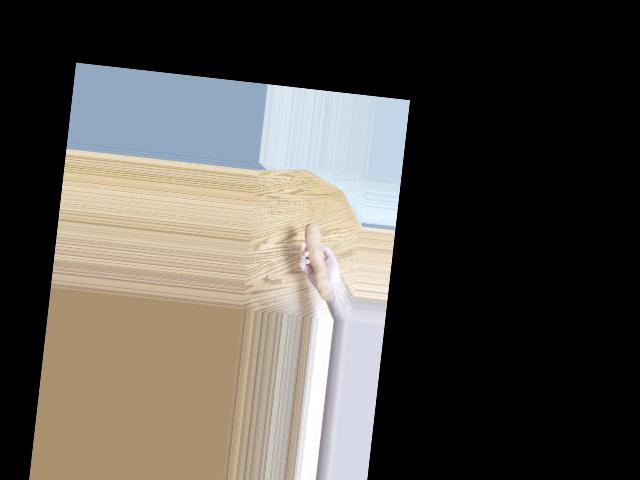sweet_potato: (294, 210, 335, 291)
